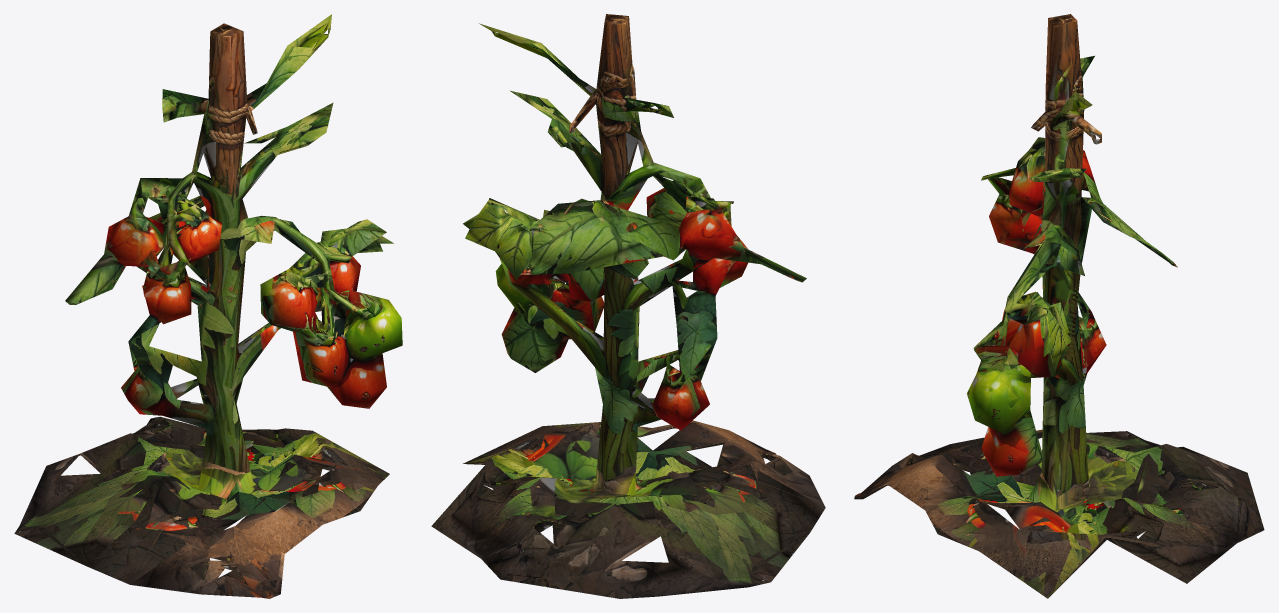
File: Crop_Tomato_Ready.fbx
3 views of the same model, side by side, from view 1: azimuth 30°, elevation 25°; view 2: azimuth 150°, elevation 25°; view 3: azimuth 270°, elevation 25° (orthographic). The views are drawn at different scales.
Parts seen in each view (by area): view 1: texture_mapping; view 2: texture_mapping; view 3: texture_mapping.
Boxes of the visible parts, x1,y1,x2,y2 form: texture_mapping: [14, 14, 402, 598]; texture_mapping: [431, 14, 825, 598]; texture_mapping: [854, 14, 1264, 598].
Size of the model in its own units: 0.7319 by 0.7292 by 0.9966.
1 material, 1 textured.
